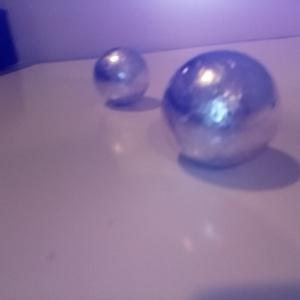alive_ball: (163, 51, 279, 169), (92, 46, 149, 103)
